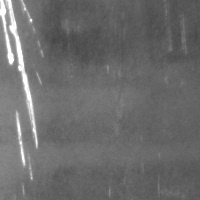scratches: (0, 1, 42, 148), (10, 107, 31, 171)
